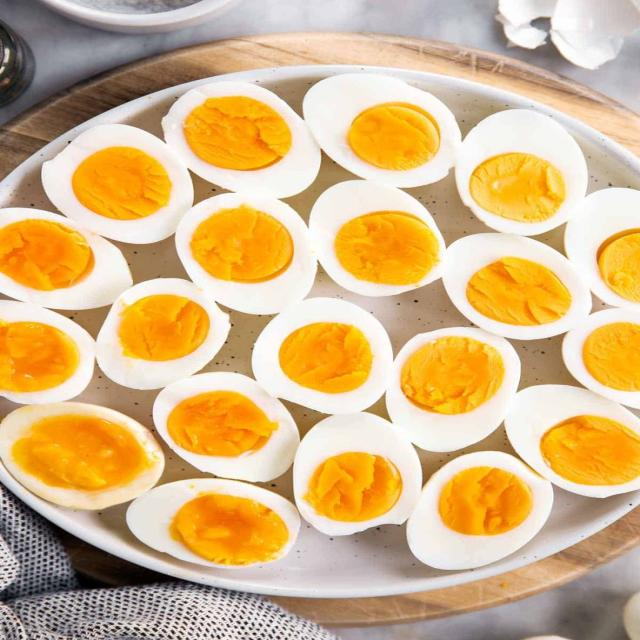eggs: (0, 86, 640, 588)
